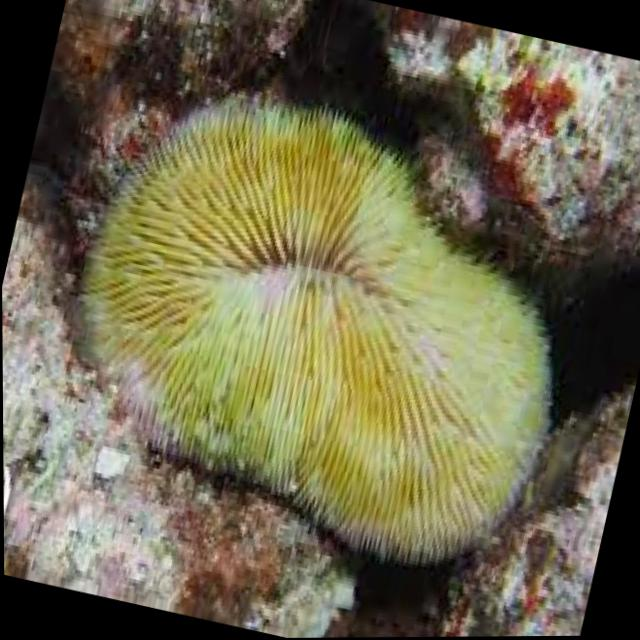Healthy Coral: (15, 44, 618, 590)
